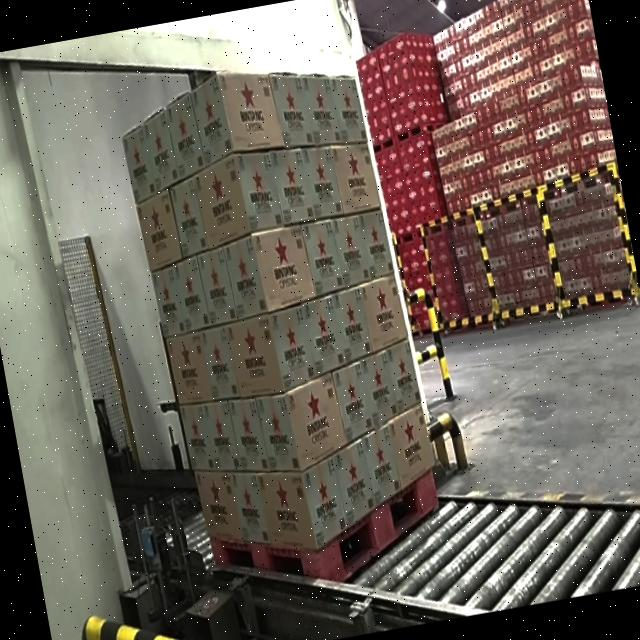pallet: (111, 45, 461, 611)
